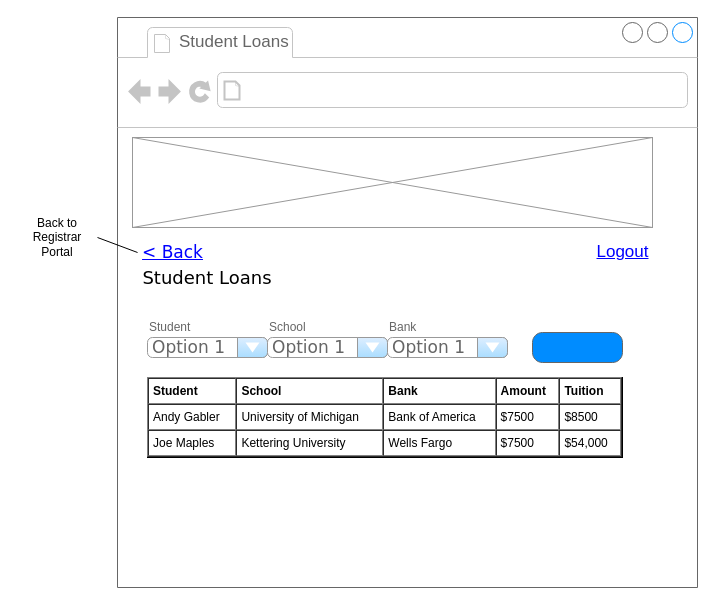
Some shapes in this 715 by 605 pixel diagram are drawn without their labels. Each missing label, with the centre of its shape:
"http://cs471loansystem.com/registrar/viewloans.php" goes at [372,90].
"Search" goes at [577,347].
